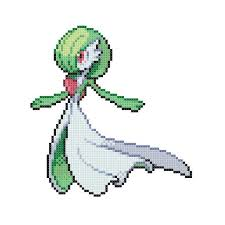gardevoir: (30, 24, 195, 198)
